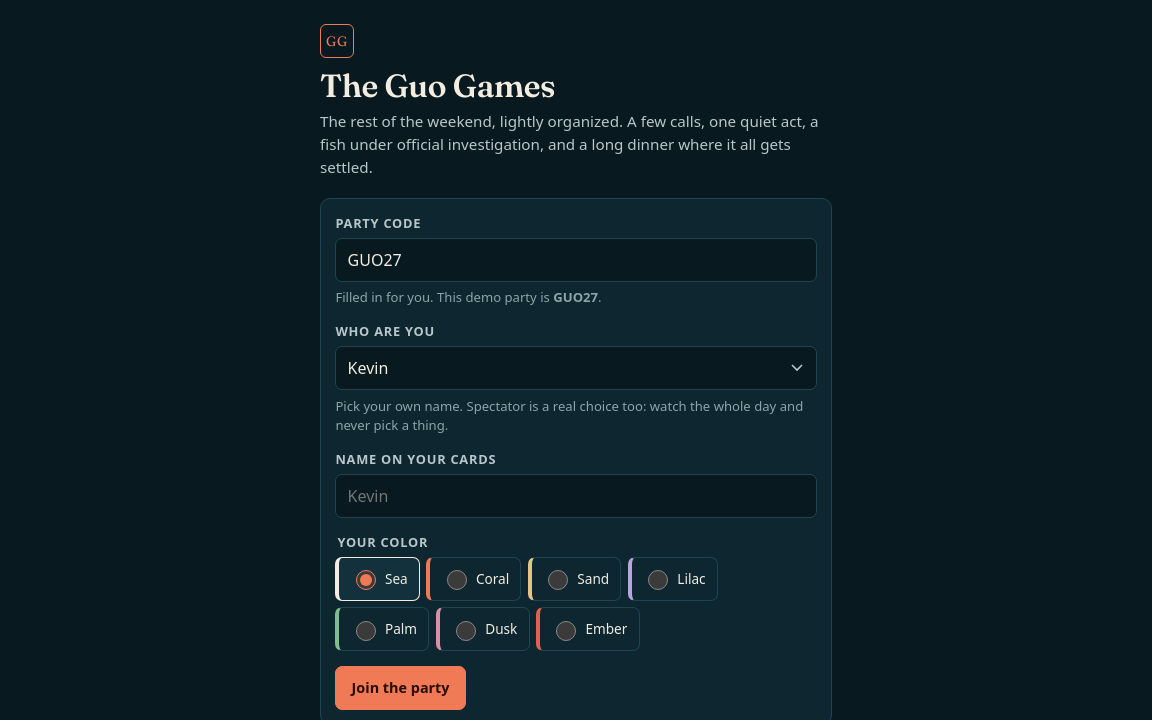
shows anyone else the cards, but leaves verdicts to a Clerk
This screenshot has width=1152, height=720.
Select "Kevin" in the dropdown labelled "Who are you" at (576, 368), box [335,346,817,390]
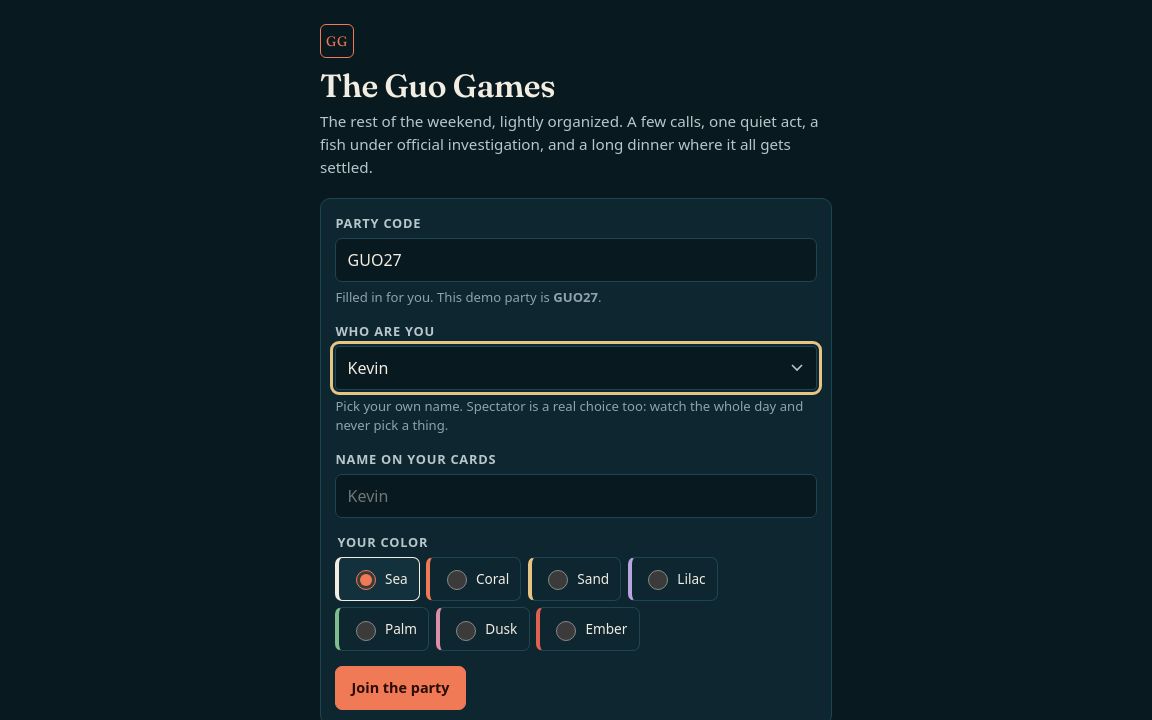
Click the button "Join the party" at (401, 688), box [335,666,466,710]
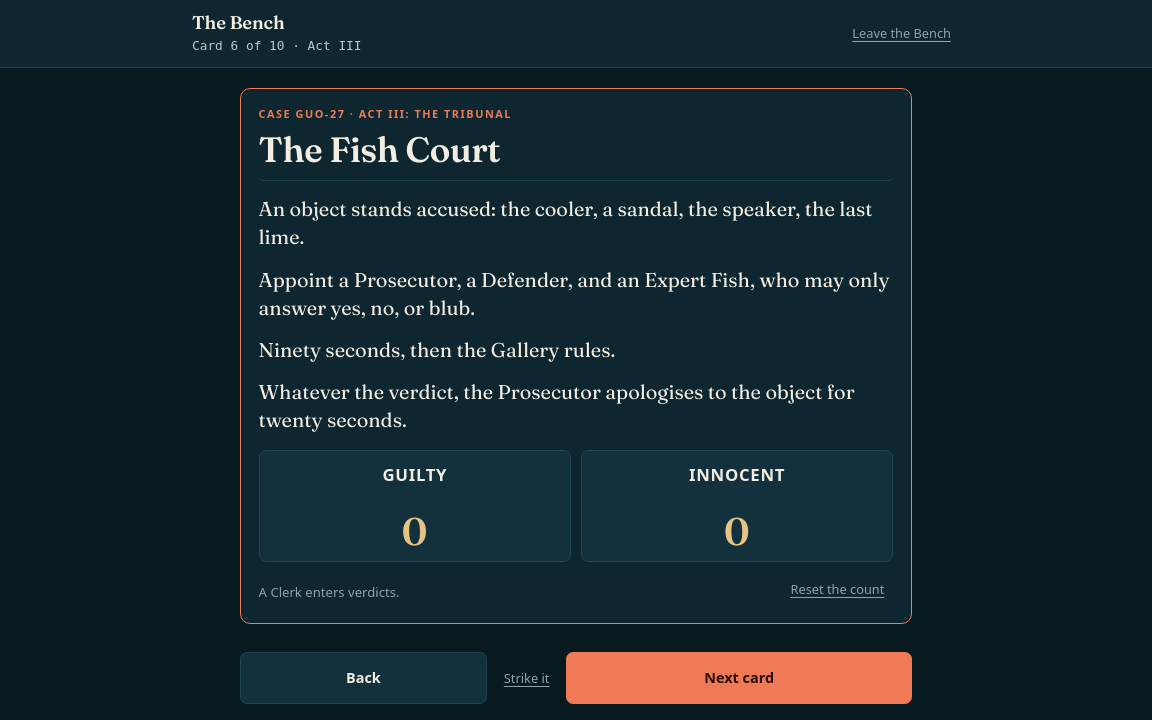
Expected: the heading "The Fish Court" is shown, [259,130,893,181]
Expected: the text "A Clerk enters verdicts." is shown, [259,583,400,603]
